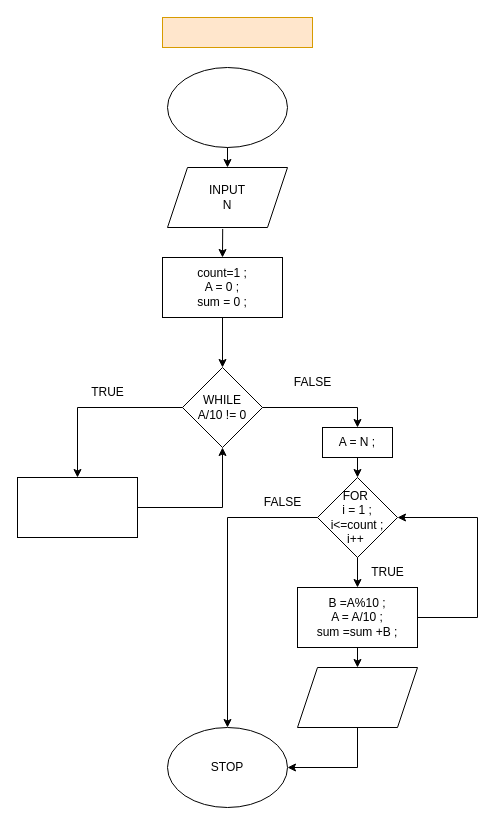
Some shapes in this 503 by 825 pixel diagram are drawn without their labels. Here are the shapes that lost their labels. From the top down, the centre of each, then its label:
At (237,32): "FACTORS PROGRAM".
At (227,107): "START".
At (77,507): "A=A/10 ; count ++ ;".
At (357,697): "PRINT sum ;".
